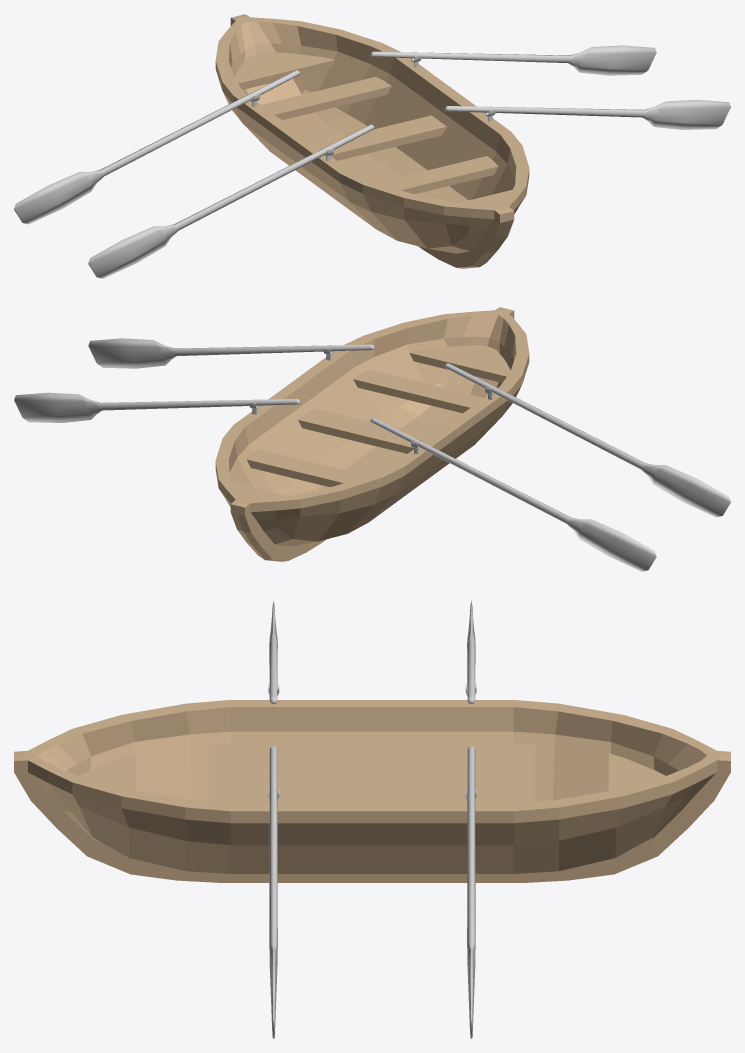
The model's file is Boat.fbx.
The picture shows the model from 3 angles, top to bottom: view 1: azimuth 30°, elevation 25°; view 2: azimuth 150°, elevation 25°; view 3: azimuth 270°, elevation 25°; orthographic projection. The views are drawn at different scales.
Parts seen in each view (by area): view 1: Cube_007, Cube_001; view 2: Cube_007, Cube_001; view 3: Cube_007, Cube_001.
Boxes of the visible parts, left/top/right/bottom form: Cube_007: left=215, top=14, right=529, bottom=268; Cube_001: left=14, top=45, right=730, bottom=278; Cube_007: left=215, top=307, right=529, bottom=561; Cube_001: left=14, top=338, right=730, bottom=571; Cube_007: left=14, top=700, right=730, bottom=882; Cube_001: left=269, top=601, right=475, bottom=1038.
Size of the model in its own units: 27.16 by 4.89 by 19.7.
